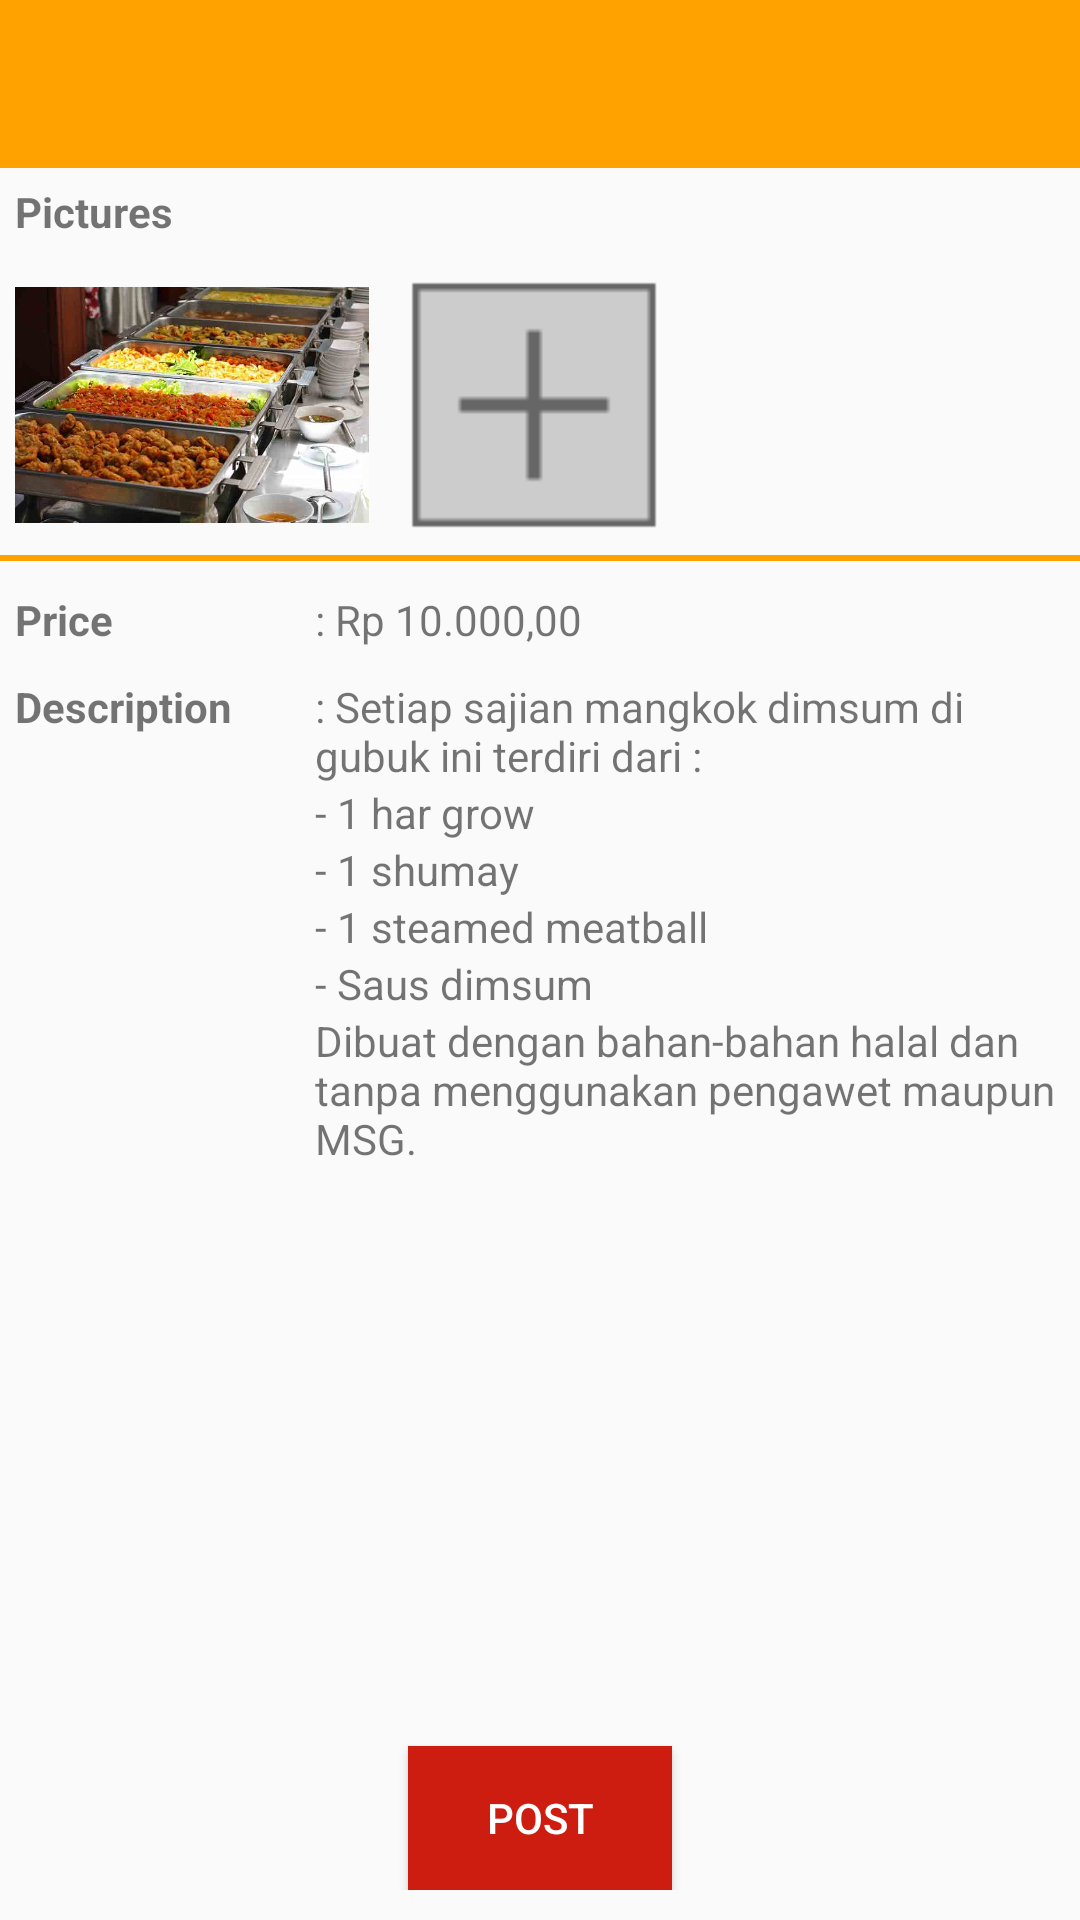

Named icons in this screenshot (1080x1920) and their centers, (x,y):
plusmenu: (534,405)
prasmanan: (192,405)
